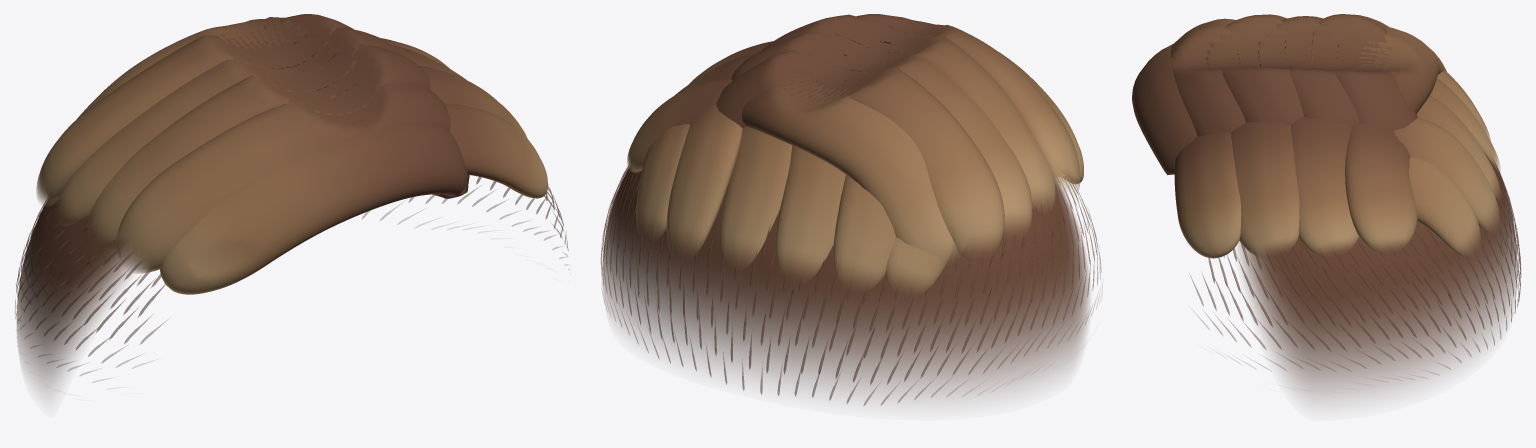
Rendered from Masculine-taper-cowboy259-hair-ombre.glb.
3 views of the same model, side by side, from view 1: azimuth 30°, elevation 25°; view 2: azimuth 150°, elevation 25°; view 3: azimuth 270°, elevation 25° (orthographic). The views are drawn at different scales.
Parts seen in each view (by area): view 1: 226 hair / Hair258 / sculpted side sweep 1, 226 hair / Hair258 / sculpted side sweep 0, 226 hair / Hair258 / smooth side fade, 226 hair / Hair258 / sculpted side sweep 2, 226 hair / Hair259 / directional fade marks214; view 2: 226 hair / Hair258 / smooth side fade, 226 hair / Hair258 / sculpted side sweep 0, 226 hair / Hair258 / sculpted side sweep 1, 226 hair / Hair258 / sculpted side sweep 2, 226 hair / Hair259 / directional fade marks214; view 3: 226 hair / Hair258 / smooth side fade, 226 hair / Hair258 / sculpted side sweep 0, 226 hair / Hair258 / sculpted side sweep 1, 226 hair / Hair258 / sculpted side sweep 2, 226 hair / Hair259 / directional fade marks214.
Boxes of the visible parts, bbox=[...] form: 226 hair / Hair258 / sculpted side sweep 1: bbox=[56, 27, 548, 294]; 226 hair / Hair258 / sculpted side sweep 0: bbox=[36, 14, 527, 273]; 226 hair / Hair258 / smooth side fade: bbox=[17, 68, 547, 395]; 226 hair / Hair258 / sculpted side sweep 2: bbox=[88, 44, 466, 243]; 226 hair / Hair259 / directional fade marks214: bbox=[15, 177, 569, 382]; 226 hair / Hair258 / smooth side fade: bbox=[602, 66, 1089, 400]; 226 hair / Hair258 / sculpted side sweep 0: bbox=[666, 14, 1080, 291]; 226 hair / Hair258 / sculpted side sweep 1: bbox=[627, 21, 1083, 295]; 226 hair / Hair258 / sculpted side sweep 2: bbox=[636, 14, 1055, 280]; 226 hair / Hair259 / directional fade marks214: bbox=[601, 164, 1102, 405]; 226 hair / Hair258 / smooth side fade: bbox=[1238, 61, 1517, 402]; 226 hair / Hair258 / sculpted side sweep 0: bbox=[1171, 14, 1499, 258]; 226 hair / Hair258 / sculpted side sweep 1: bbox=[1132, 16, 1500, 258]; 226 hair / Hair258 / sculpted side sweep 2: bbox=[1206, 14, 1500, 258]; 226 hair / Hair259 / directional fade marks214: bbox=[1190, 160, 1521, 378].
Bounding box in the file's own units: 0.9743 × 0.6218 × 0.7585.
